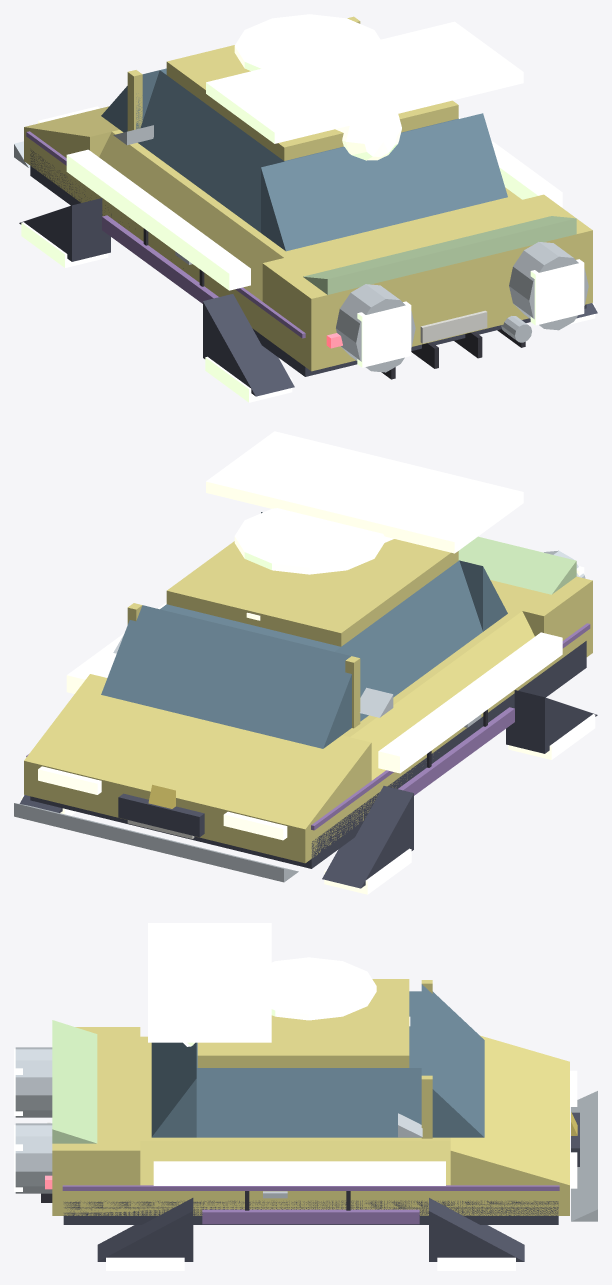
The model's file is pixel_pilot.glb.
3 renders of one model, top to bottom at view 1: azimuth 30°, elevation 25°; view 2: azimuth 150°, elevation 25°; view 3: azimuth 270°, elevation 25°, orthographic. The views are drawn at different scales.
Visible parts, largest first — view 1: SolarSail.018, RearWindow.211, Tail.111, CabinSideL.108, Body.311, FloatFin-1.053, Ducktail.076, ShoulderL.108, Roof.311, HaloRing.015, HoverPodWheel_RL.053, HoverPodWheel_FL.053 (+17 smaller); view 2: Nose.108, Windshield.211, SolarSail.018, Roof.311, CabinSideL.108, Body.311, HaloRing.015, FloatFin-1.053, ShoulderL.108, Sill.307, HoverPodWheel_FL.053, Bumper.307 (+16 smaller); view 3: CabinSideR.108, SolarSail.018, Nose.108, Body.311, Roof.311, Tail.111, Windshield.211, FloatFin1.053, ShoulderR.108, HaloRing.015, Sill.307, Ducktail.076 (+14 smaller).
Part boxes in pixels (bbox=[...]): SolarSail.018: bbox=[206, 21, 523, 143]; RearWindow.211: bbox=[261, 113, 507, 251]; Tail.111: bbox=[262, 194, 592, 337]; CabinSideL.108: bbox=[138, 70, 284, 232]; Body.311: bbox=[24, 127, 592, 371]; FloatFin-1.053: bbox=[66, 149, 250, 290]; Ducktail.076: bbox=[303, 216, 576, 294]; ShoulderL.108: bbox=[99, 132, 283, 301]; Roof.311: bbox=[166, 45, 458, 160]; HaloRing.015: bbox=[234, 14, 380, 71]; HoverPodWheel_RL.053: bbox=[203, 294, 294, 396]; HoverPodWheel_FL.053: bbox=[19, 198, 110, 261]; Nose.108: bbox=[24, 674, 371, 829]; Windshield.211: bbox=[101, 605, 351, 748]; SolarSail.018: bbox=[206, 431, 523, 553]; Roof.311: bbox=[166, 539, 458, 646]; CabinSideL.108: bbox=[334, 560, 482, 721]; Body.311: bbox=[24, 619, 592, 863]; HaloRing.015: bbox=[234, 508, 384, 574]; FloatFin-1.053: bbox=[378, 632, 562, 773]; ShoulderL.108: bbox=[350, 611, 534, 780]; Sill.307: bbox=[30, 641, 586, 868]; HoverPodWheel_FL.053: bbox=[322, 786, 413, 888]; Bumper.307: bbox=[14, 803, 298, 882]; CabinSideR.108: bbox=[196, 1068, 421, 1137]; SolarSail.018: bbox=[148, 923, 271, 1042]; Nose.108: bbox=[450, 1035, 569, 1185]; Body.311: bbox=[52, 1185, 569, 1215]; Roof.311: bbox=[197, 979, 409, 1067]; Tail.111: bbox=[52, 1027, 140, 1185]; Windshield.211: bbox=[421, 984, 484, 1137]; FloatFin1.053: bbox=[153, 1161, 445, 1185]; ShoulderR.108: bbox=[140, 1141, 450, 1185]; HaloRing.015: bbox=[271, 957, 376, 1020]; Sill.307: bbox=[63, 1200, 558, 1224]; Ducktail.076: bbox=[52, 1020, 97, 1143].
Size of the model in its own units: 3.2 by 2.13 by 5.19.
